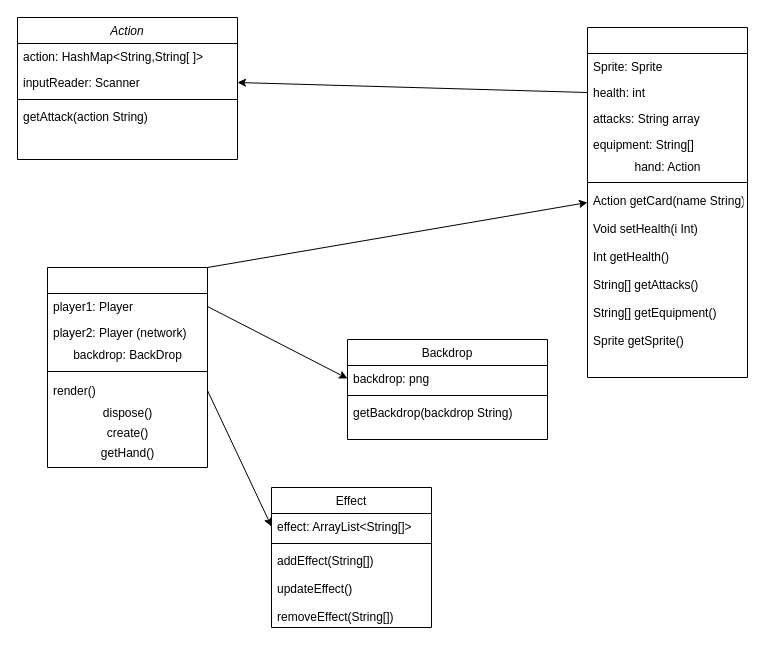
Some shapes in this 765 by 648 pixel diagram are drawn without their labels. The box of each missing label's shape, as (x1, y1, x2, y2) in pixels:
(uses UI interface) CombatUI: (46, 266, 208, 468)
Player: (586, 26, 748, 378)
